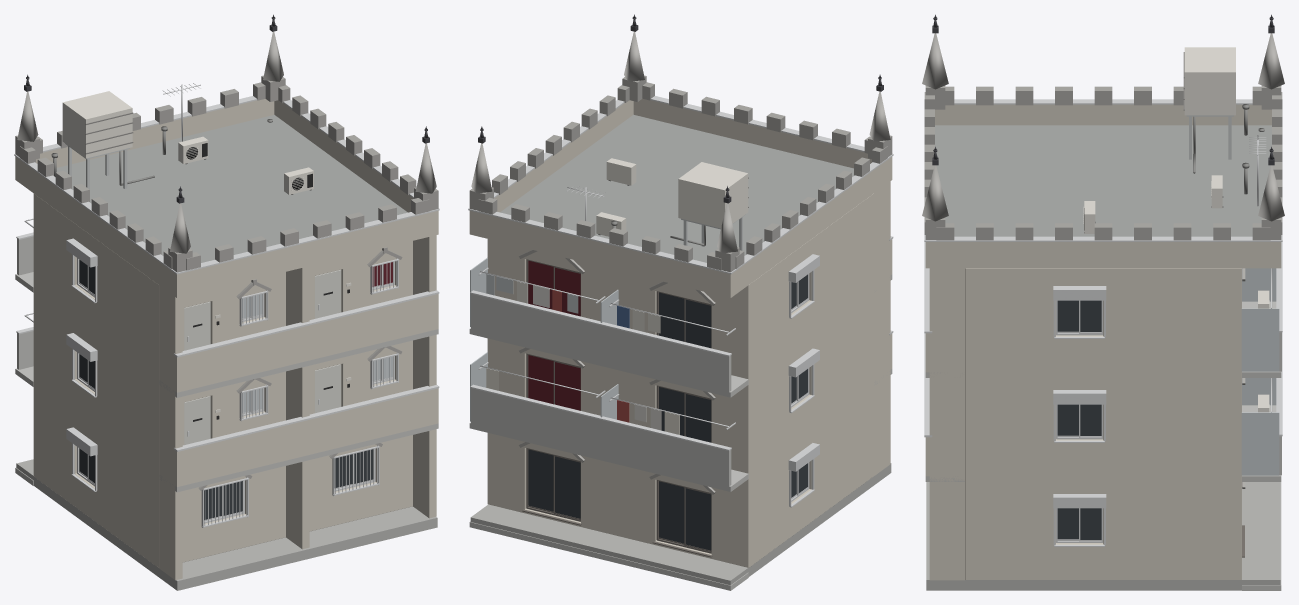
Rendered from blk_outerm1_0_2.glb.
The picture shows the model from 3 angles, left to right: view 1: azimuth 30°, elevation 25°; view 2: azimuth 150°, elevation 25°; view 3: azimuth 270°, elevation 25°; orthographic projection. The views are drawn at different scales.
Parts seen in each view (by area): view 1: blk_outerm1_0_2; view 2: blk_outerm1_0_2; view 3: blk_outerm1_0_2.
Boxes of the visible parts, x1,y1,x2,y2 form: blk_outerm1_0_2: (14,14,439,590); blk_outerm1_0_2: (468,14,893,590); blk_outerm1_0_2: (922,14,1284,590).
Size of the model in its own units: 8.86 by 12.3 by 9.18.
